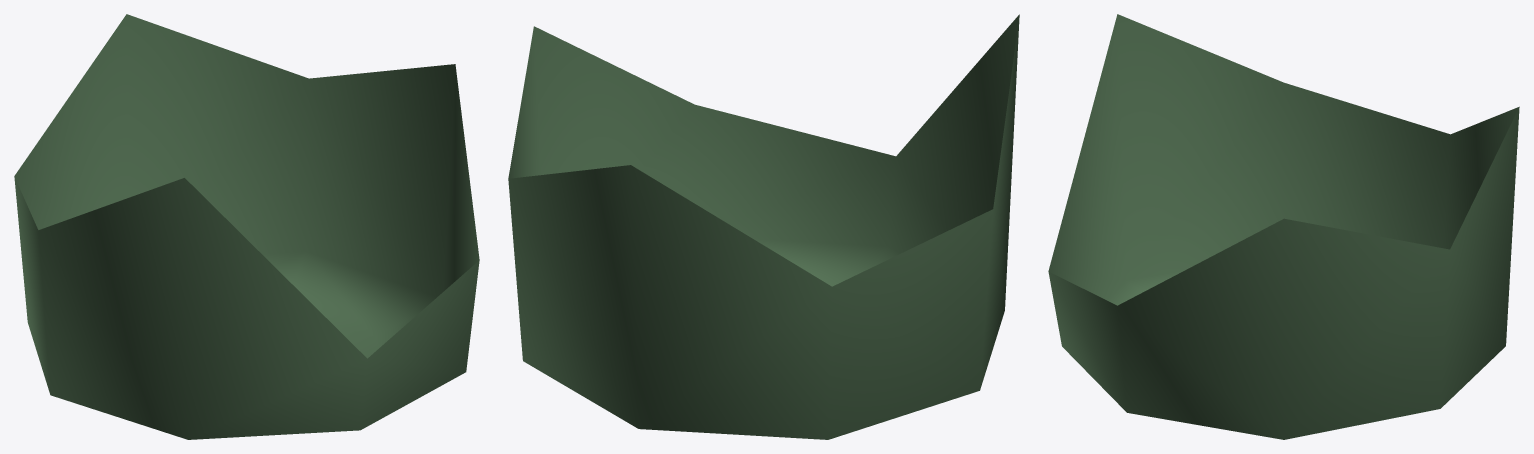
Rendered from Broken_Glass_1.fbx.
3 views of the same model, side by side, from view 1: azimuth 30°, elevation 25°; view 2: azimuth 150°, elevation 25°; view 3: azimuth 270°, elevation 25° (orthographic). The views are drawn at different scales.
Parts seen in each view (by area): view 1: broken_glass_1; view 2: broken_glass_1; view 3: broken_glass_1.
Boxes of the visible parts, x1,y1,x2,y2 form: broken_glass_1: (14,14,479,439); broken_glass_1: (508,14,1019,439); broken_glass_1: (1048,14,1519,439).
Bounding box in the file's own units: 0.2518 × 0.1678 × 0.2518.
